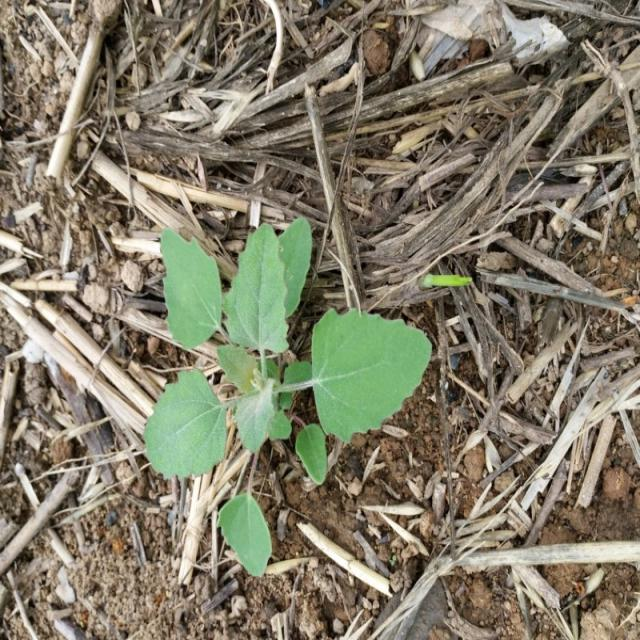ca: (149, 219, 437, 489)
